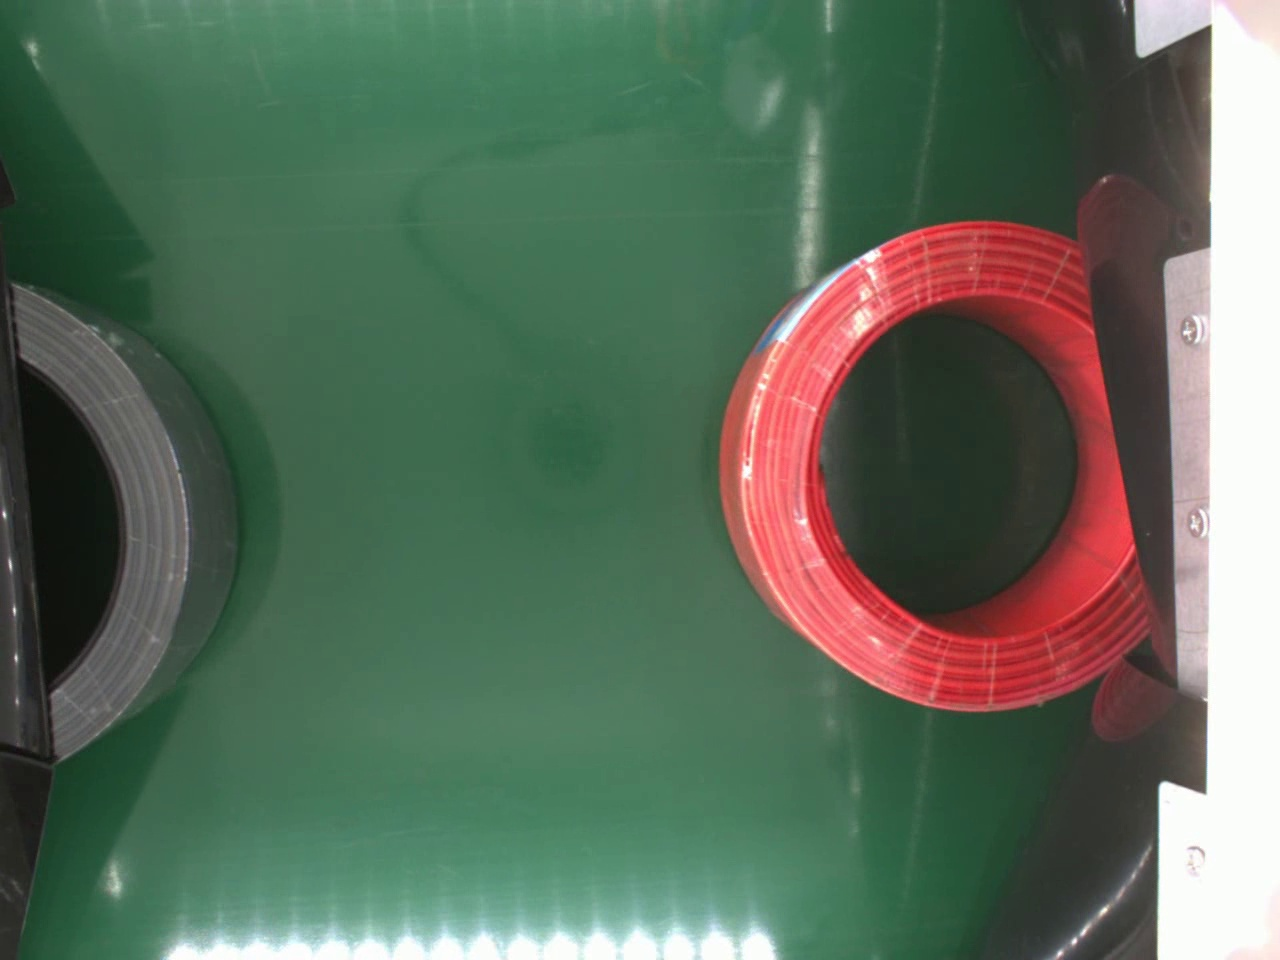black: (15, 277, 247, 764)
red: (710, 217, 1151, 717)
